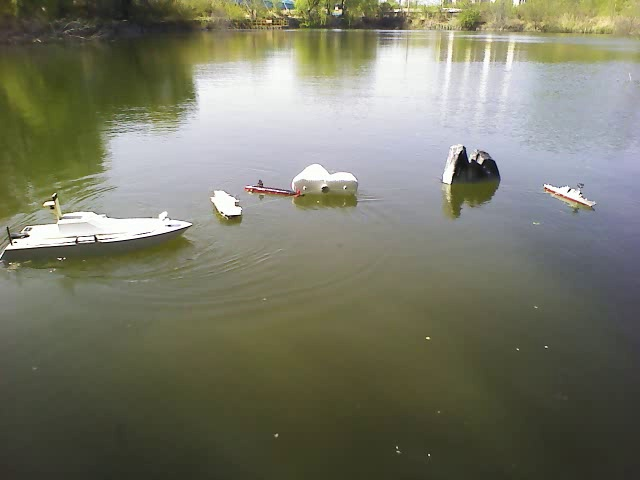aircraft_carrier: (205, 183, 246, 226), (243, 177, 299, 201)
boat: (3, 206, 199, 263)
iceberg: (292, 163, 361, 198)
rock: (443, 140, 502, 191)
warship: (544, 179, 598, 213)
